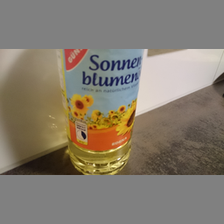oil: (56, 50, 144, 175)
